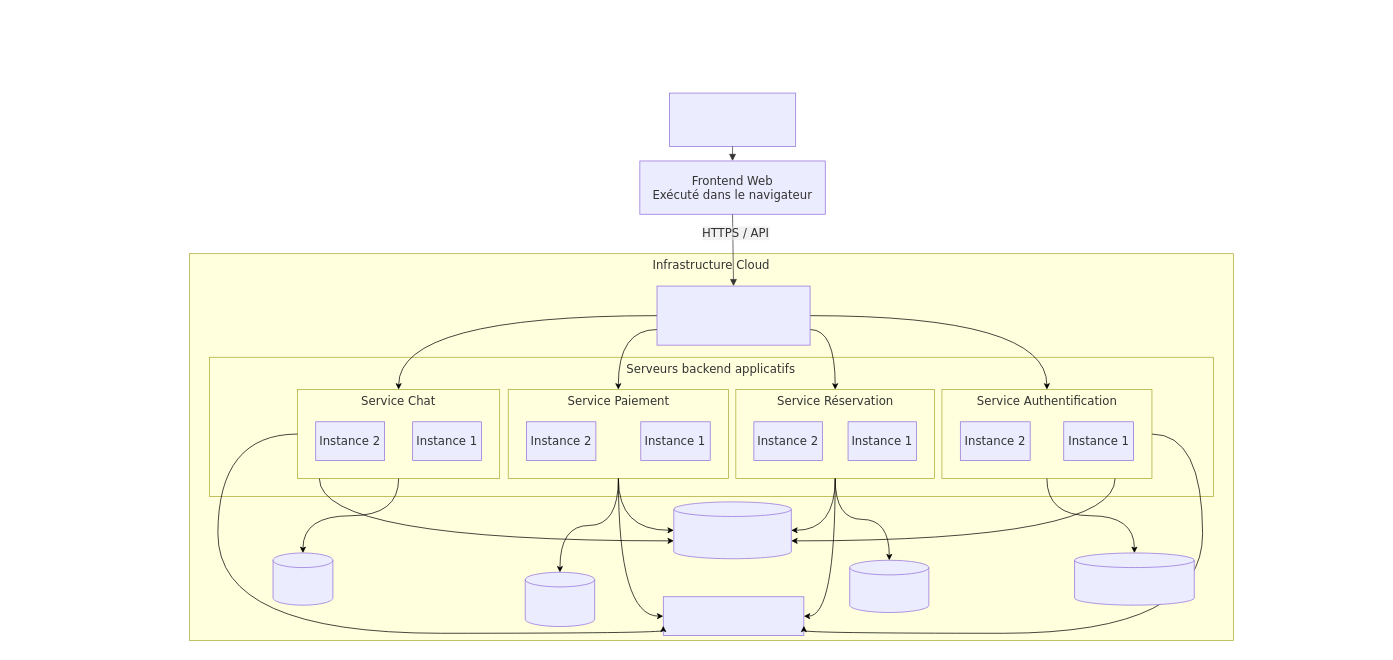
The diagram is 1393 pixels wide and 660 high, and some of its shapes have lost their labels. Here are the shapes that lost their labels. From the top down, the centre of each, then its label:
At [732,119]: "Client Navigateur Web".
At [733,315]: "API Gateway / Load Balancer Nginx".
At [732,530]: "Stockage objet Documents / Images".
At [302,578]: "BDD Chat".
At [889,586]: "BDD Réservations".
At [1134,578]: "BDD Authentification".
At [560,599]: "BDD Paiements".
At [733,616]: "Monitoring Logs / Métriques / Alertes".
